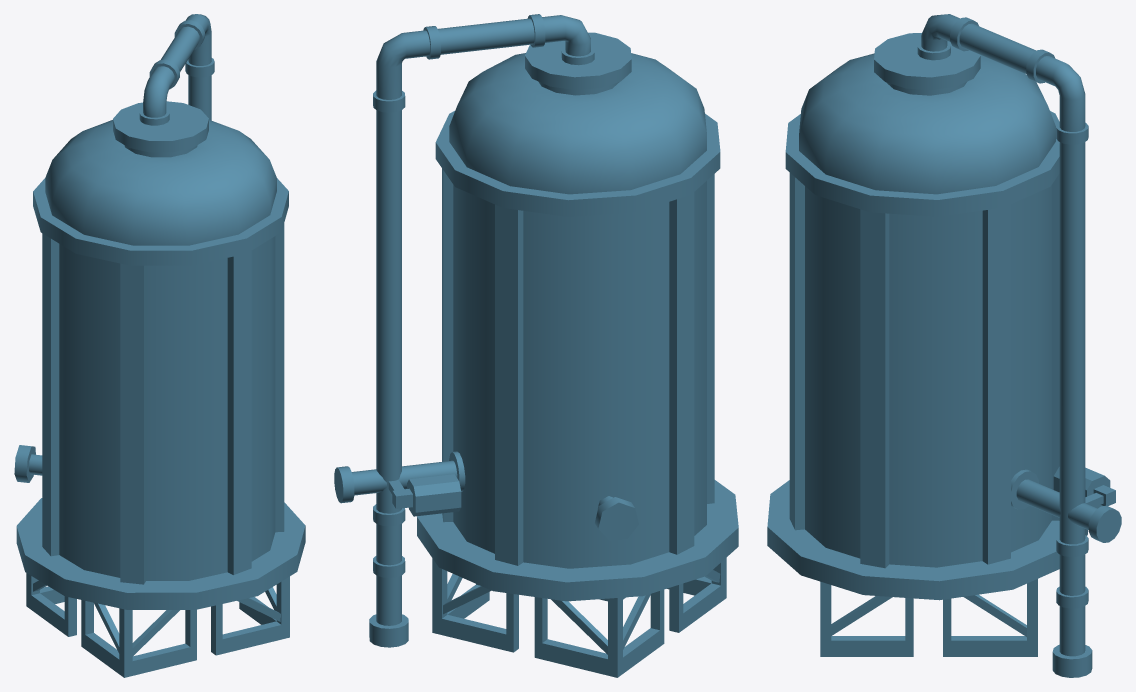
Rendered from GJ_Decor_Tank_04.fbx.
3 renders of one model, left to right at view 1: azimuth 30°, elevation 25°; view 2: azimuth 150°, elevation 25°; view 3: azimuth 270°, elevation 25°, orthographic. The views are drawn at different scales.
Parts seen in each view (by area): view 1: GJ_Decor_Tank_04; view 2: GJ_Decor_Tank_04; view 3: GJ_Decor_Tank_04.
Part boxes in pixels (left/top/right/bottom): GJ_Decor_Tank_04: left=14, top=14, right=305, bottom=677; GJ_Decor_Tank_04: left=334, top=14, right=738, bottom=677; GJ_Decor_Tank_04: left=767, top=14, right=1121, bottom=677.
Bounding box in the file's own units: 19.96 × 38.75 × 20.57.
